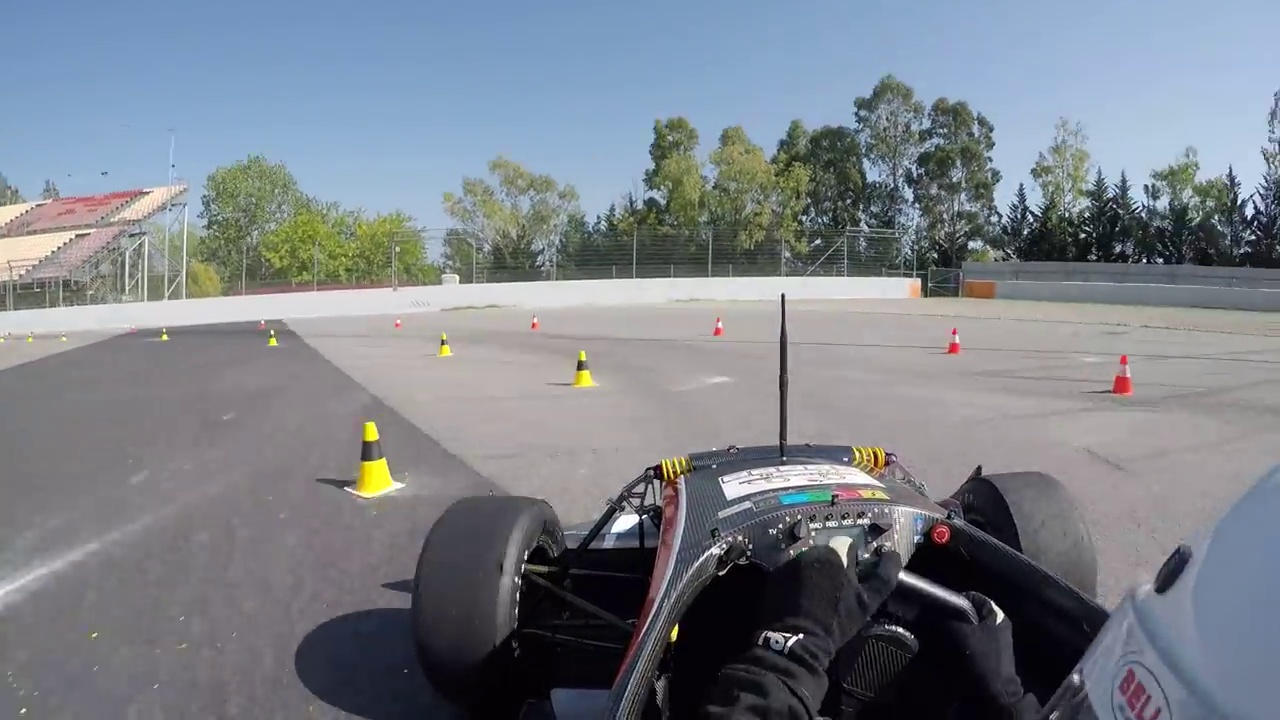Cone: (347, 420, 399, 497), (1109, 353, 1141, 394), (571, 349, 598, 389)
